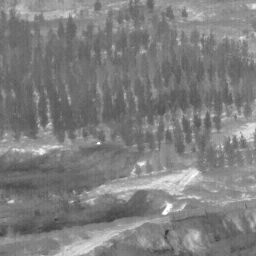aircraft: (98, 142, 100, 144)
